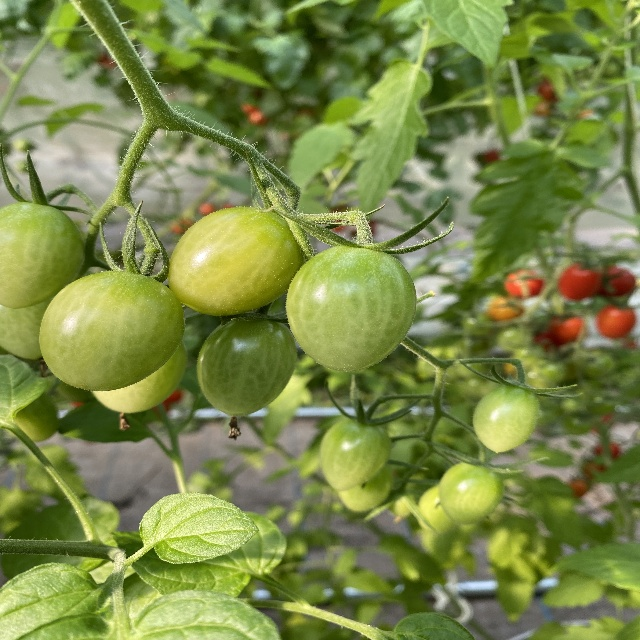l_green: (40, 269, 186, 391), (287, 243, 418, 372), (167, 205, 302, 317), (194, 313, 298, 417), (0, 203, 85, 308), (91, 340, 188, 414), (318, 417, 392, 492), (0, 285, 67, 360), (472, 382, 540, 453), (437, 458, 505, 526), (337, 457, 392, 511)
